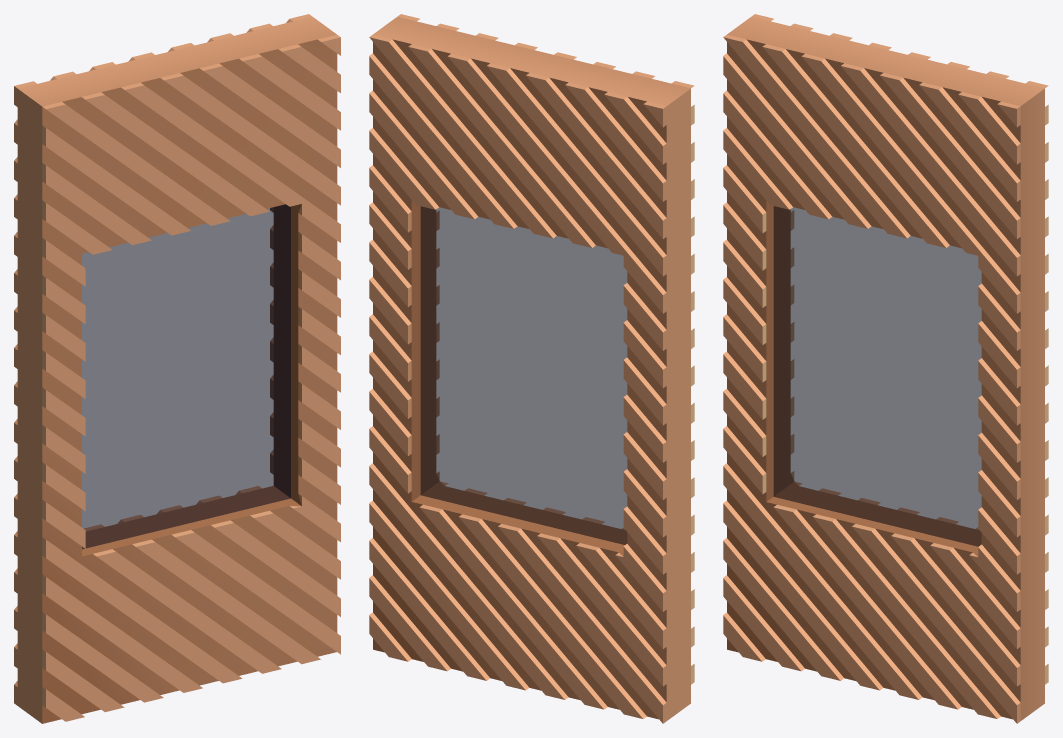
The model's file is DiagonalBoardWindow.glb.
3 views of the same model, side by side, from view 1: azimuth 30°, elevation 25°; view 2: azimuth 150°, elevation 25°; view 3: azimuth 330°, elevation 25° (orthographic).
Visible parts, largest first — view 1: wall_diagonalBoard_window; view 2: wall_diagonalBoard_window; view 3: wall_diagonalBoard_window.
Boxes of the visible parts, <box> form: wall_diagonalBoard_window: <box>14,14,340,723</box>; wall_diagonalBoard_window: <box>369,14,694,723</box>; wall_diagonalBoard_window: <box>723,14,1048,723</box>.
Size of what is drawn, in the model's own units: 2 by 4 by 0.3745.
2 materials, 2 textured.
